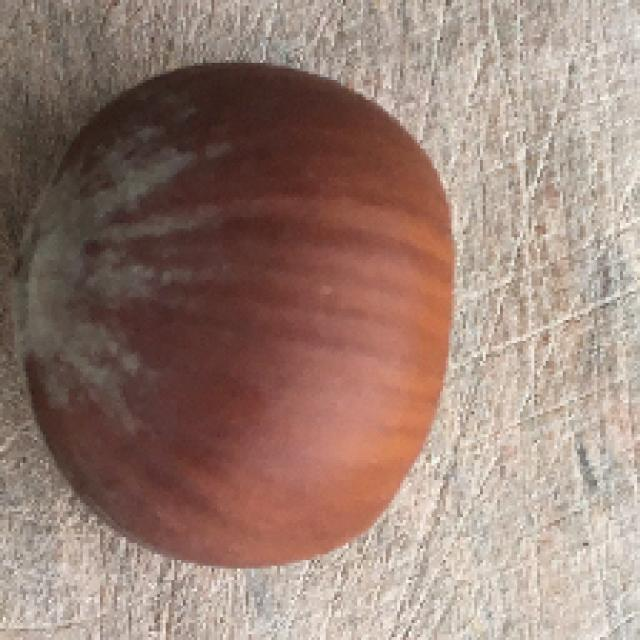DamagedHazelnut: (10, 63, 454, 568)
